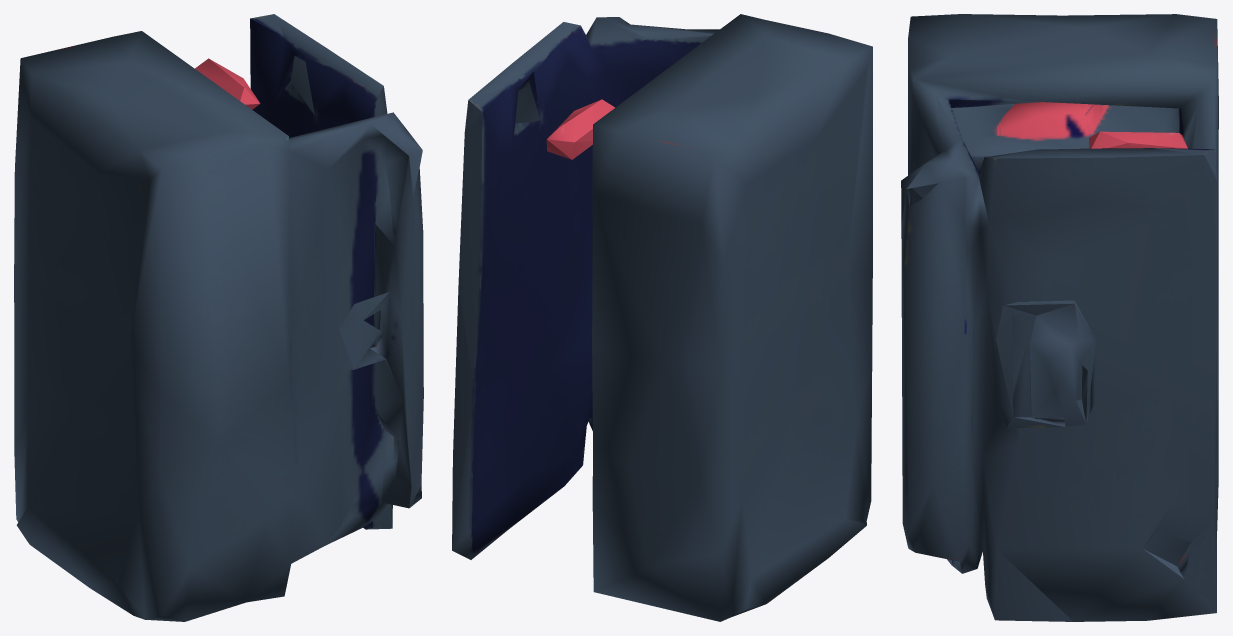
The model's file is tool-shelf.glb.
The picture shows the model from 3 angles, left to right: view 1: azimuth 30°, elevation 25°; view 2: azimuth 150°, elevation 25°; view 3: azimuth 270°, elevation 25°; orthographic projection. The views are drawn at different scales.
Parts seen in each view (by area): view 1: geometry_0.001; view 2: geometry_0.001; view 3: geometry_0.001.
Boxes of the visible parts, x1,y1,x2,y2 form: geometry_0.001: (14, 14, 423, 621); geometry_0.001: (452, 14, 872, 621); geometry_0.001: (901, 14, 1218, 621).
Bounding box in the file's own units: 0.7099 × 1 × 0.6041.
Materials: 1 (1 with a texture image).
